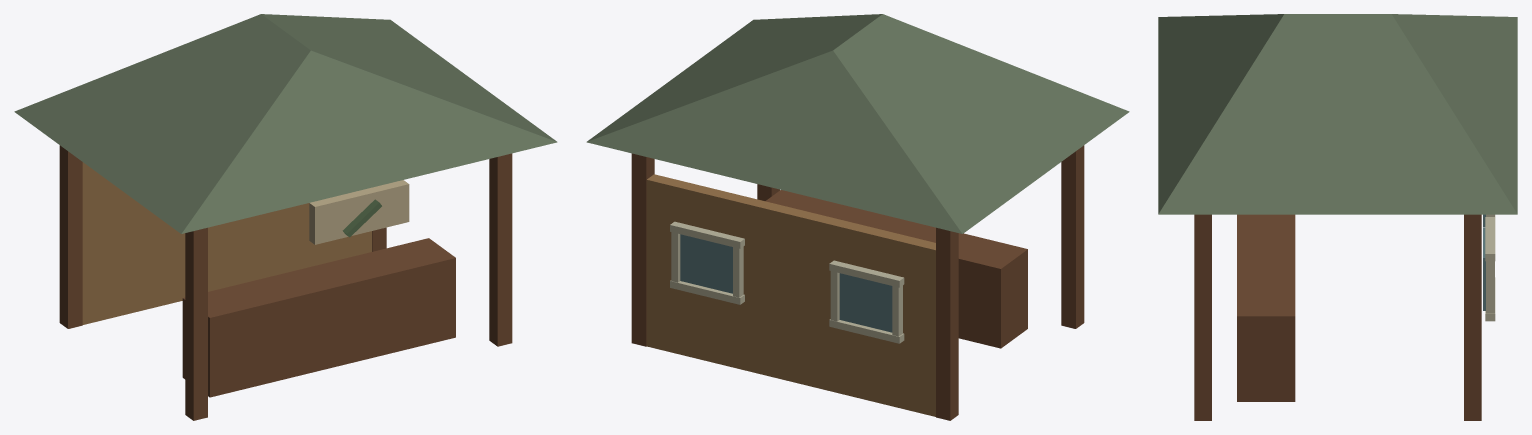
File: Building_Settlement_TeaPavilionShop_001_LOD1.glb
3 views of the same model, side by side, from view 1: azimuth 30°, elevation 25°; view 2: azimuth 150°, elevation 25°; view 3: azimuth 270°, elevation 25° (orthographic). The views are drawn at different scales.
Visible parts, largest first — view 1: Building_Settlement_TeaPavilionShop_001_LOD1; view 2: Building_Settlement_TeaPavilionShop_001_LOD1; view 3: Building_Settlement_TeaPavilionShop_001_LOD1.
Part boxes in pixels (x1=…): Building_Settlement_TeaPavilionShop_001_LOD1: x1=14, y1=14, x2=557, y2=420; Building_Settlement_TeaPavilionShop_001_LOD1: x1=586, y1=14, x2=1129, y2=420; Building_Settlement_TeaPavilionShop_001_LOD1: x1=1158, y1=14, x2=1517, y2=420.
Size of the model in its own units: 5.2 by 3.97 by 4.
